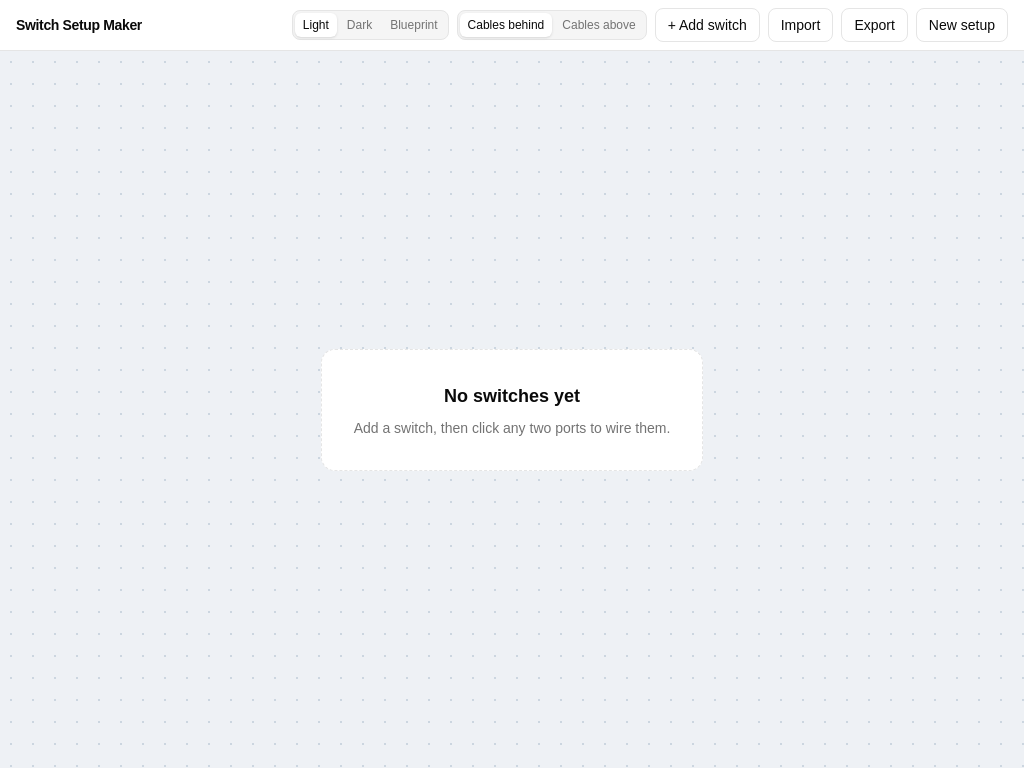
Test: add switch › opens the layout-preset gallery from the app bar
Click the button "+ Add switch": click(707, 25) x1=655 y1=8 x2=760 y2=42
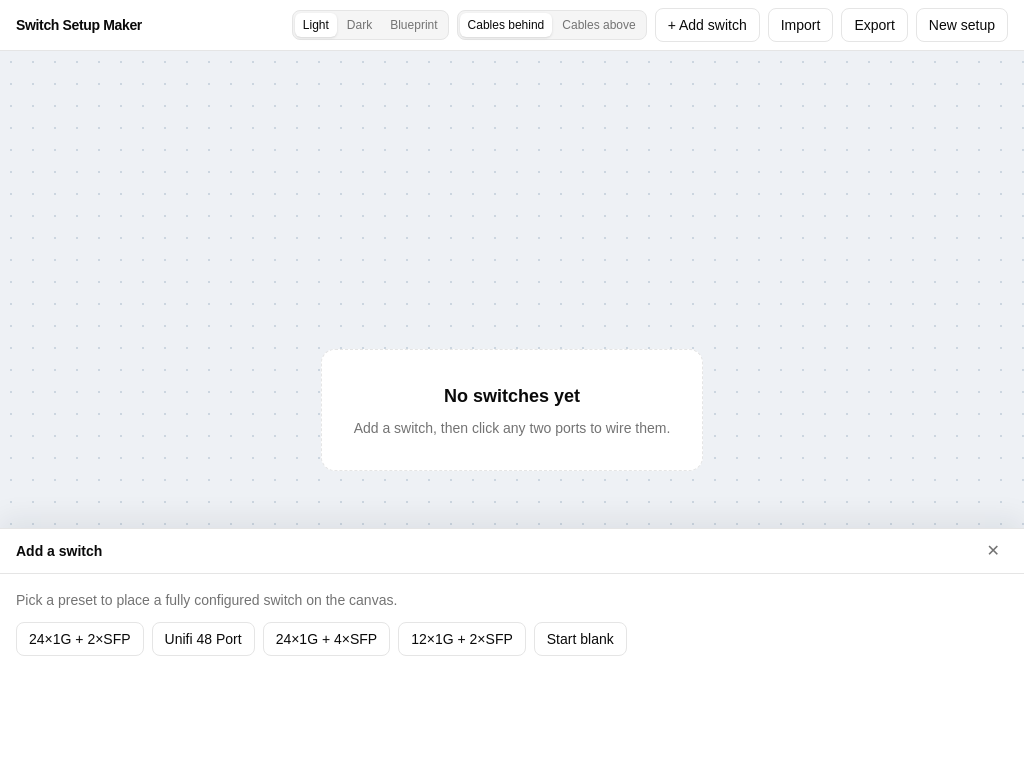
Now the heading "Add a switch" is shown, box x1=16 y1=541 x2=102 y2=561
Now the button "24×1G + 2×SFP" is shown, box x1=16 y1=622 x2=144 y2=656
Now the button "Unifi 48 Port" is shown, box x1=152 y1=622 x2=255 y2=656
